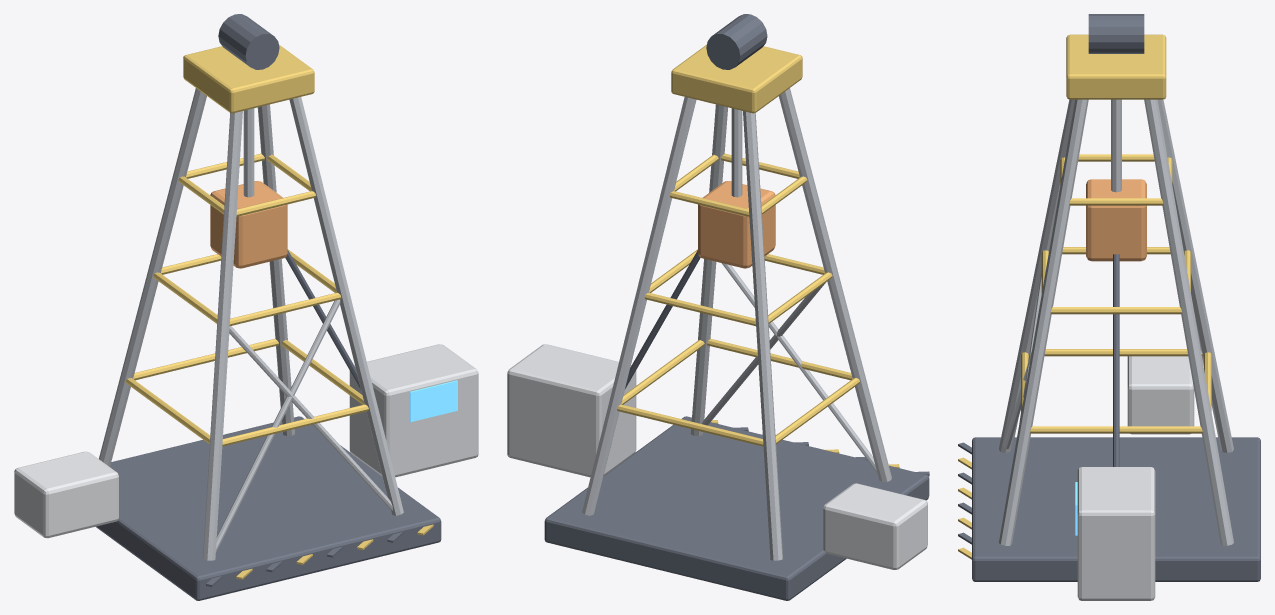
Rendered from drill__drill.fbx.
3 views of the same model, side by side, from view 1: azimuth 30°, elevation 25°; view 2: azimuth 150°, elevation 25°; view 3: azimuth 270°, elevation 25° (orthographic).
Visible parts, largest first — view 1: drill__drill; view 2: drill__drill; view 3: drill__drill.
Part boxes in pixels (x1,y1,x2,y2): drill__drill: (14,14,478,600); drill__drill: (507,14,929,600); drill__drill: (958,14,1260,600).
Size of the model in its own units: 4.35 by 5.03 by 2.73.
